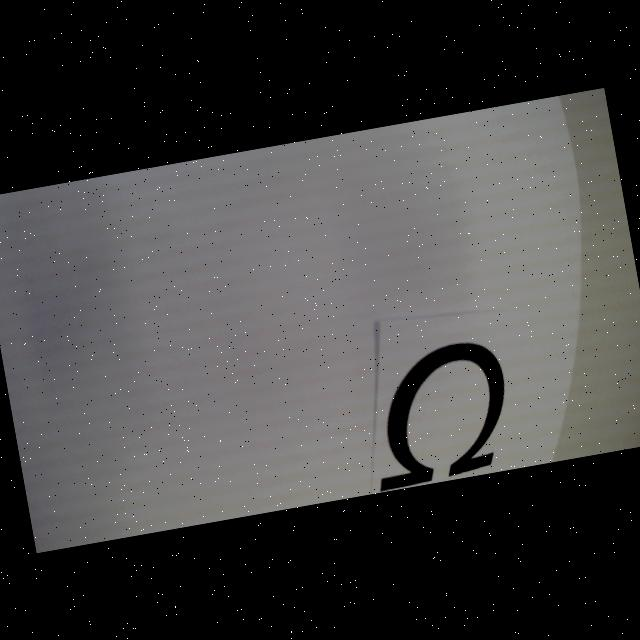OMEGA: (356, 336, 520, 492)
